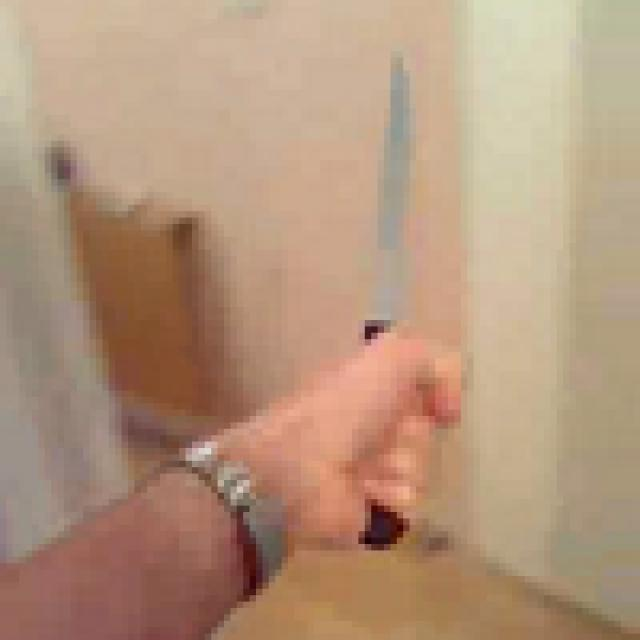weapon: (320, 44, 480, 570)
